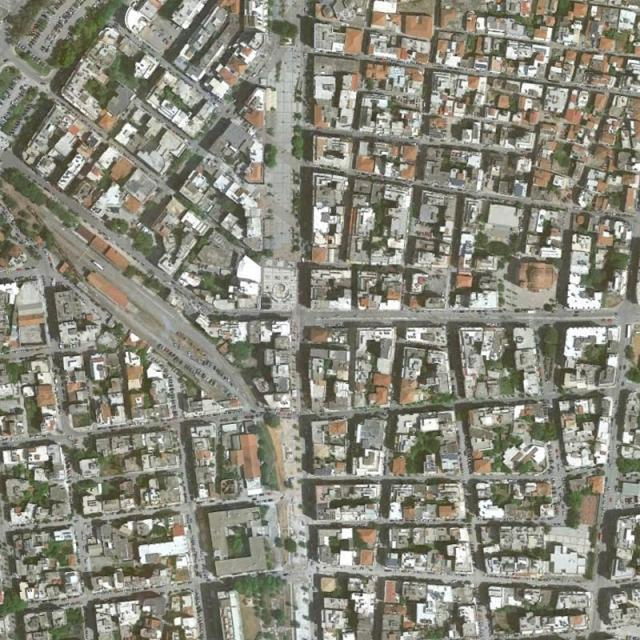vehicle: (91, 262, 103, 270), (627, 324, 631, 338), (525, 310, 536, 314)
